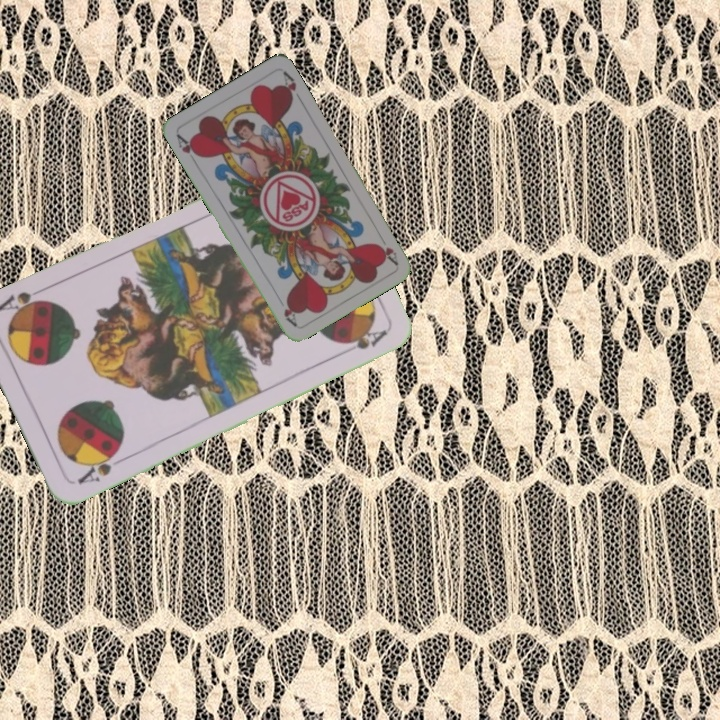HA: (172, 130, 203, 167), (374, 230, 400, 267)
SA: (73, 446, 122, 487)
